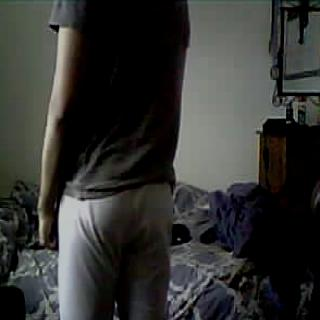White Sweatpants: (44, 173, 182, 320)
